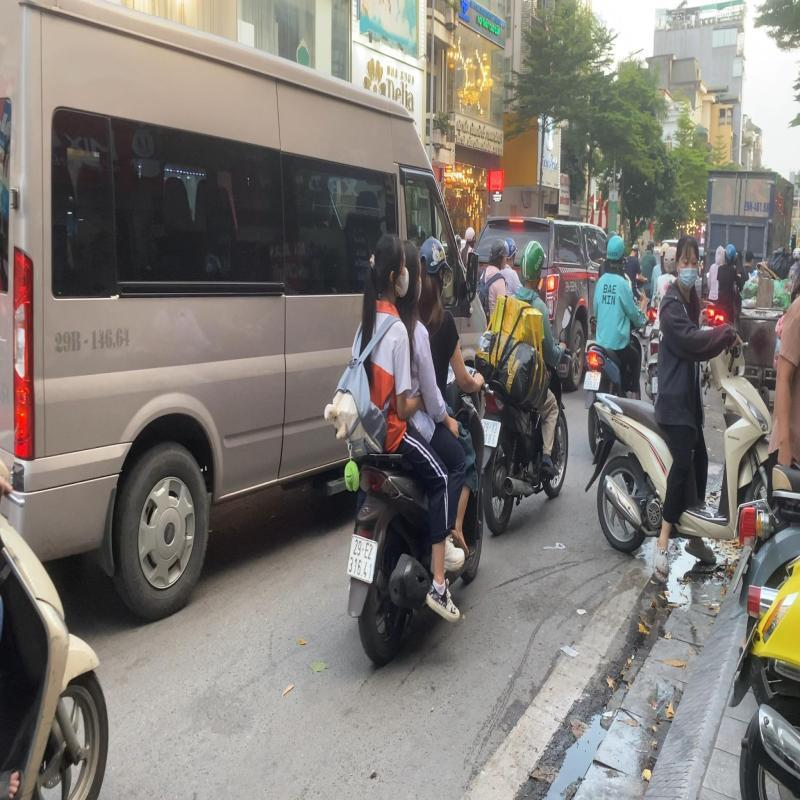helmet: (419, 234, 452, 288)
licenseplate: (345, 532, 379, 587)
motorcyclist: (322, 232, 494, 668)
nohelmet: (370, 235, 407, 298), (402, 239, 424, 310)
